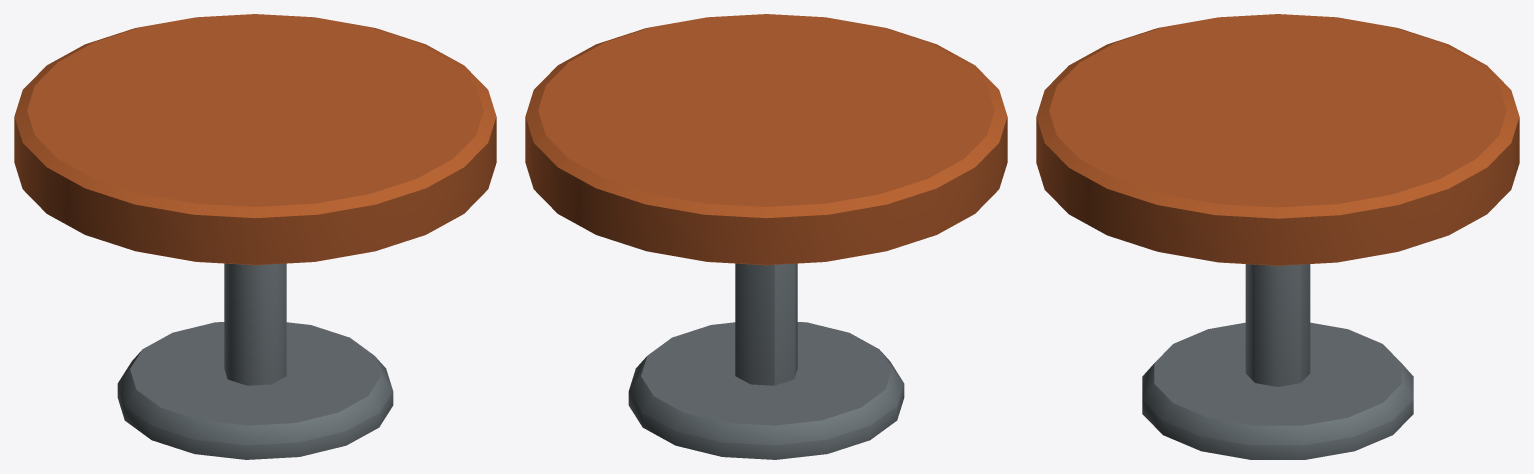
File: table_round_A_small.glb
The picture shows the model from 3 angles, left to right: view 1: azimuth 30°, elevation 25°; view 2: azimuth 150°, elevation 25°; view 3: azimuth 270°, elevation 25°; orthographic projection.
Visible parts, largest first — view 1: table_round_A_small; view 2: table_round_A_small; view 3: table_round_A_small.
Boxes of the visible parts, <box> form: table_round_A_small: <box>14,14,496,459</box>; table_round_A_small: <box>525,14,1007,459</box>; table_round_A_small: <box>1036,14,1519,459</box>.
Size of the model in its own units: 1.5 by 1 by 1.5.
